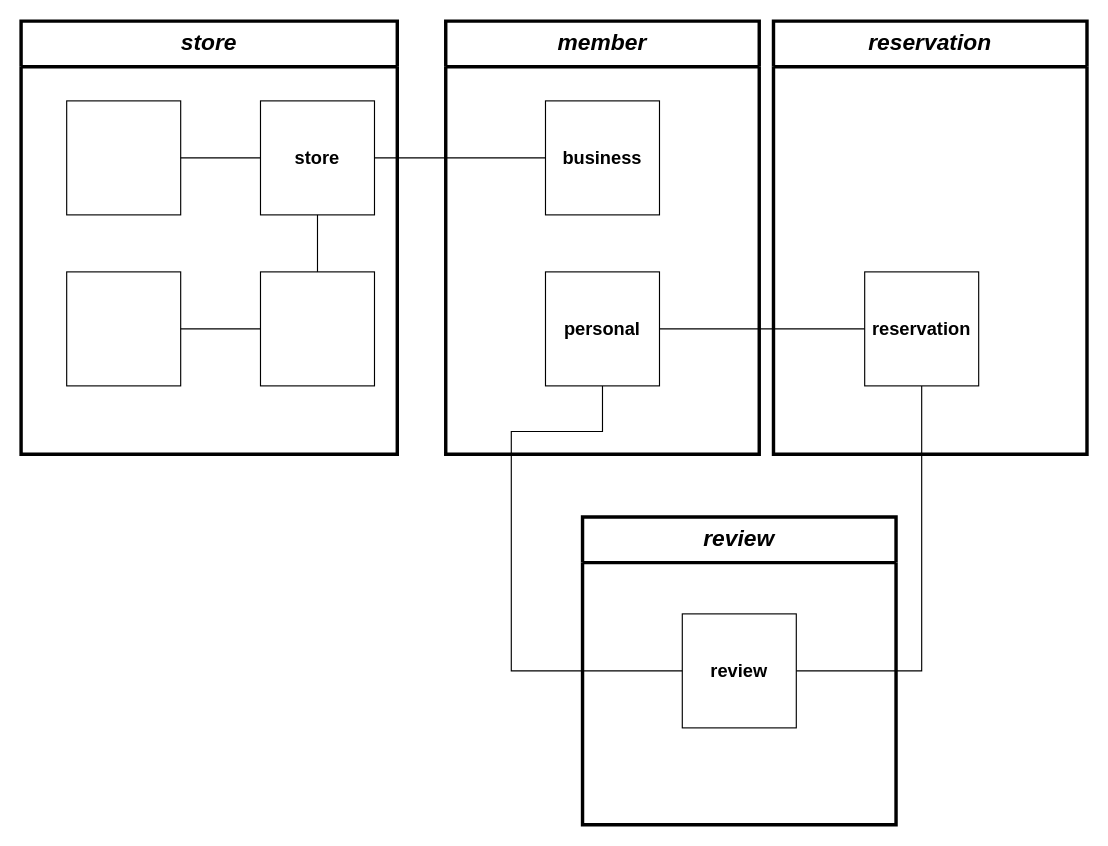
Some shapes in this 1108 by 846 pixel diagram are drawn without their labels. The shapes that lost their labels are listed below. From the top down, each one's centre as x and y in pixels, then its label:
At point (123, 157): "location".
At point (123, 328): "food".
At point (316, 328): "category".
